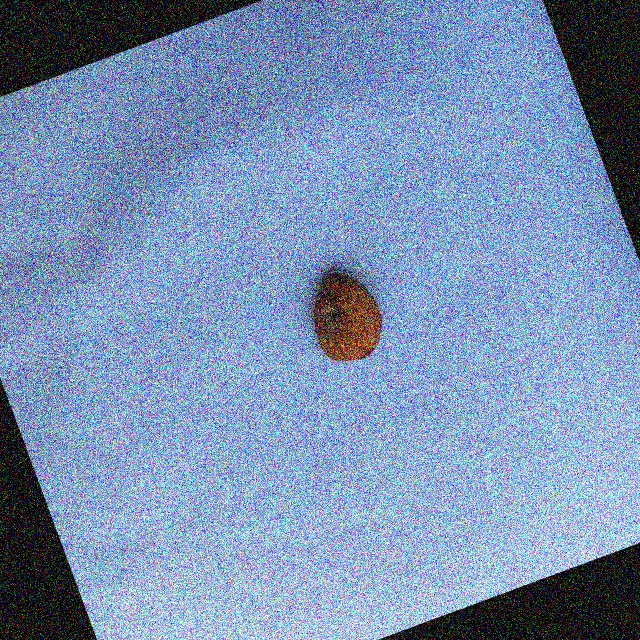grade3: (292, 258, 396, 377)
